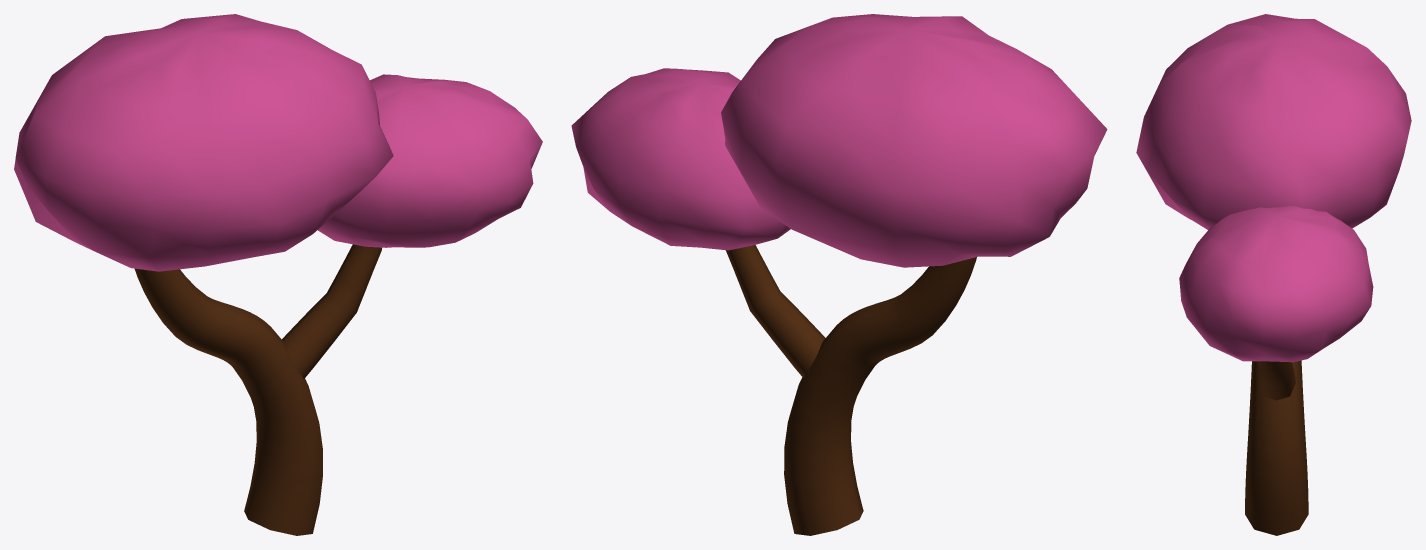
The model's file is Sakura_Tree_V1.fbx.
3 renders of one model, left to right at view 1: azimuth 30°, elevation 25°; view 2: azimuth 150°, elevation 25°; view 3: azimuth 270°, elevation 25°, orthographic. The views are drawn at different scales.
Visible parts, largest first — view 1: Sakura_tree; view 2: Sakura_tree; view 3: Sakura_tree.
Part boxes in pixels (x1=…): Sakura_tree: x1=14, y1=14, x2=542, y2=535; Sakura_tree: x1=571, y1=14, x2=1107, y2=535; Sakura_tree: x1=1136, y1=14, x2=1411, y2=535.
Bounding box in the file's own units: 246 × 246 × 136.
